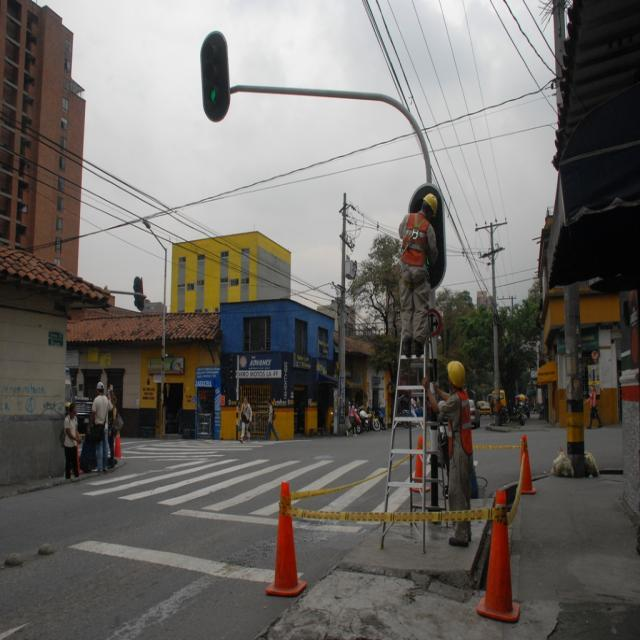traffic light: (199, 33, 234, 120)
